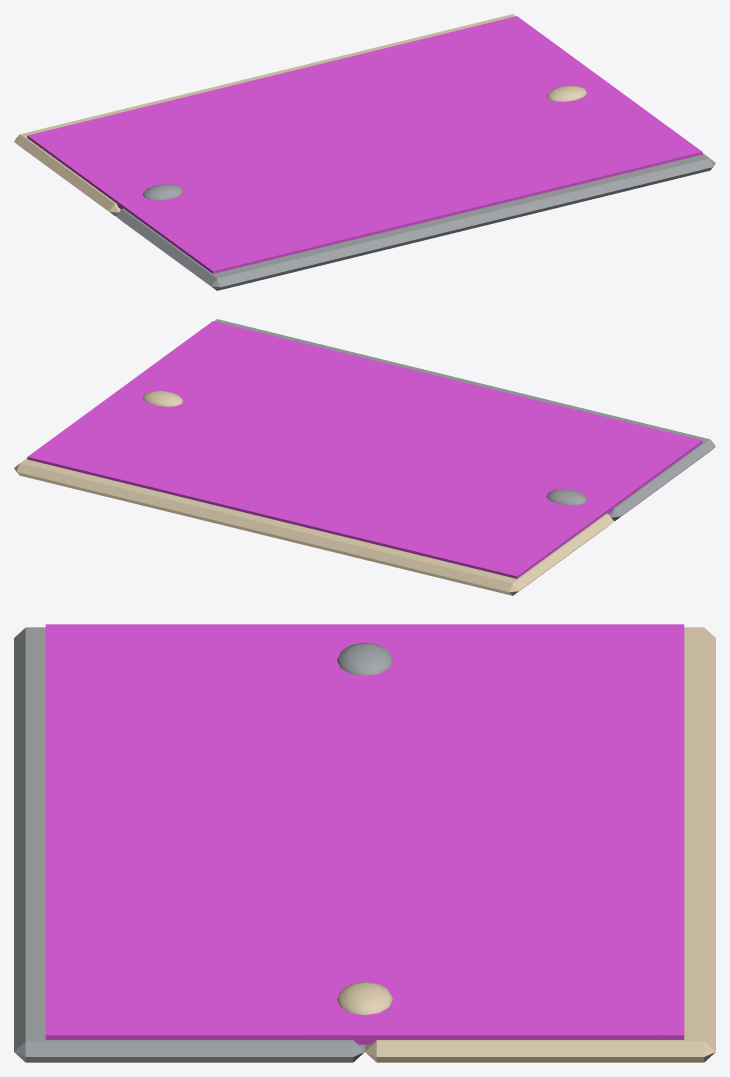
The picture shows the model from 3 angles, top to bottom: view 1: azimuth 30°, elevation 25°; view 2: azimuth 150°, elevation 25°; view 3: azimuth 270°, elevation 25°; orthographic projection. The views are drawn at different scales.
Parts seen in each view (by area): view 1: NAV_MASK_TRANSITION_ROCK_SAND, LOD2_TRANSITION_ROCK_SAND_A, LOD2_TRANSITION_ROCK_SAND_B, LOD2_TRANSITION_ROCK_SAND_Blend_01, LOD2_TRANSITION_ROCK_SAND_Blend_02; view 2: NAV_MASK_TRANSITION_ROCK_SAND, LOD2_TRANSITION_ROCK_SAND_B, LOD2_TRANSITION_ROCK_SAND_A, LOD2_TRANSITION_ROCK_SAND_Blend_01, LOD2_TRANSITION_ROCK_SAND_Blend_02; view 3: NAV_MASK_TRANSITION_ROCK_SAND, LOD2_TRANSITION_ROCK_SAND_A, LOD2_TRANSITION_ROCK_SAND_B, LOD2_TRANSITION_ROCK_SAND_Blend_02, LOD2_TRANSITION_ROCK_SAND_Blend_01.
Part boxes in pixels (x1=…): NAV_MASK_TRANSITION_ROCK_SAND: x1=27, y1=16, x2=702, y2=273; LOD2_TRANSITION_ROCK_SAND_A: x1=116, y1=153, x2=715, y2=290; LOD2_TRANSITION_ROCK_SAND_B: x1=14, y1=14, x2=515, y2=216; LOD2_TRANSITION_ROCK_SAND_Blend_01: x1=143, y1=184, x2=183, y2=200; LOD2_TRANSITION_ROCK_SAND_Blend_02: x1=546, y1=85, x2=587, y2=101; NAV_MASK_TRANSITION_ROCK_SAND: x1=27, y1=321, x2=702, y2=578; LOD2_TRANSITION_ROCK_SAND_B: x1=14, y1=458, x2=613, y2=595; LOD2_TRANSITION_ROCK_SAND_A: x1=214, y1=319, x2=715, y2=521; LOD2_TRANSITION_ROCK_SAND_Blend_01: x1=546, y1=489, x2=586, y2=505; LOD2_TRANSITION_ROCK_SAND_Blend_02: x1=142, y1=390, x2=183, y2=406; NAV_MASK_TRANSITION_ROCK_SAND: x1=45, y1=624, x2=684, y2=1044; LOD2_TRANSITION_ROCK_SAND_A: x1=14, y1=627, x2=364, y2=1062; LOD2_TRANSITION_ROCK_SAND_B: x1=365, y1=627, x2=715, y2=1062; LOD2_TRANSITION_ROCK_SAND_Blend_02: x1=337, y1=981, x2=392, y2=1015; LOD2_TRANSITION_ROCK_SAND_Blend_01: x1=337, y1=642, x2=392, y2=675.
Size of what is drawn, in the model's own units: 6 by 0.23 by 4.2.
